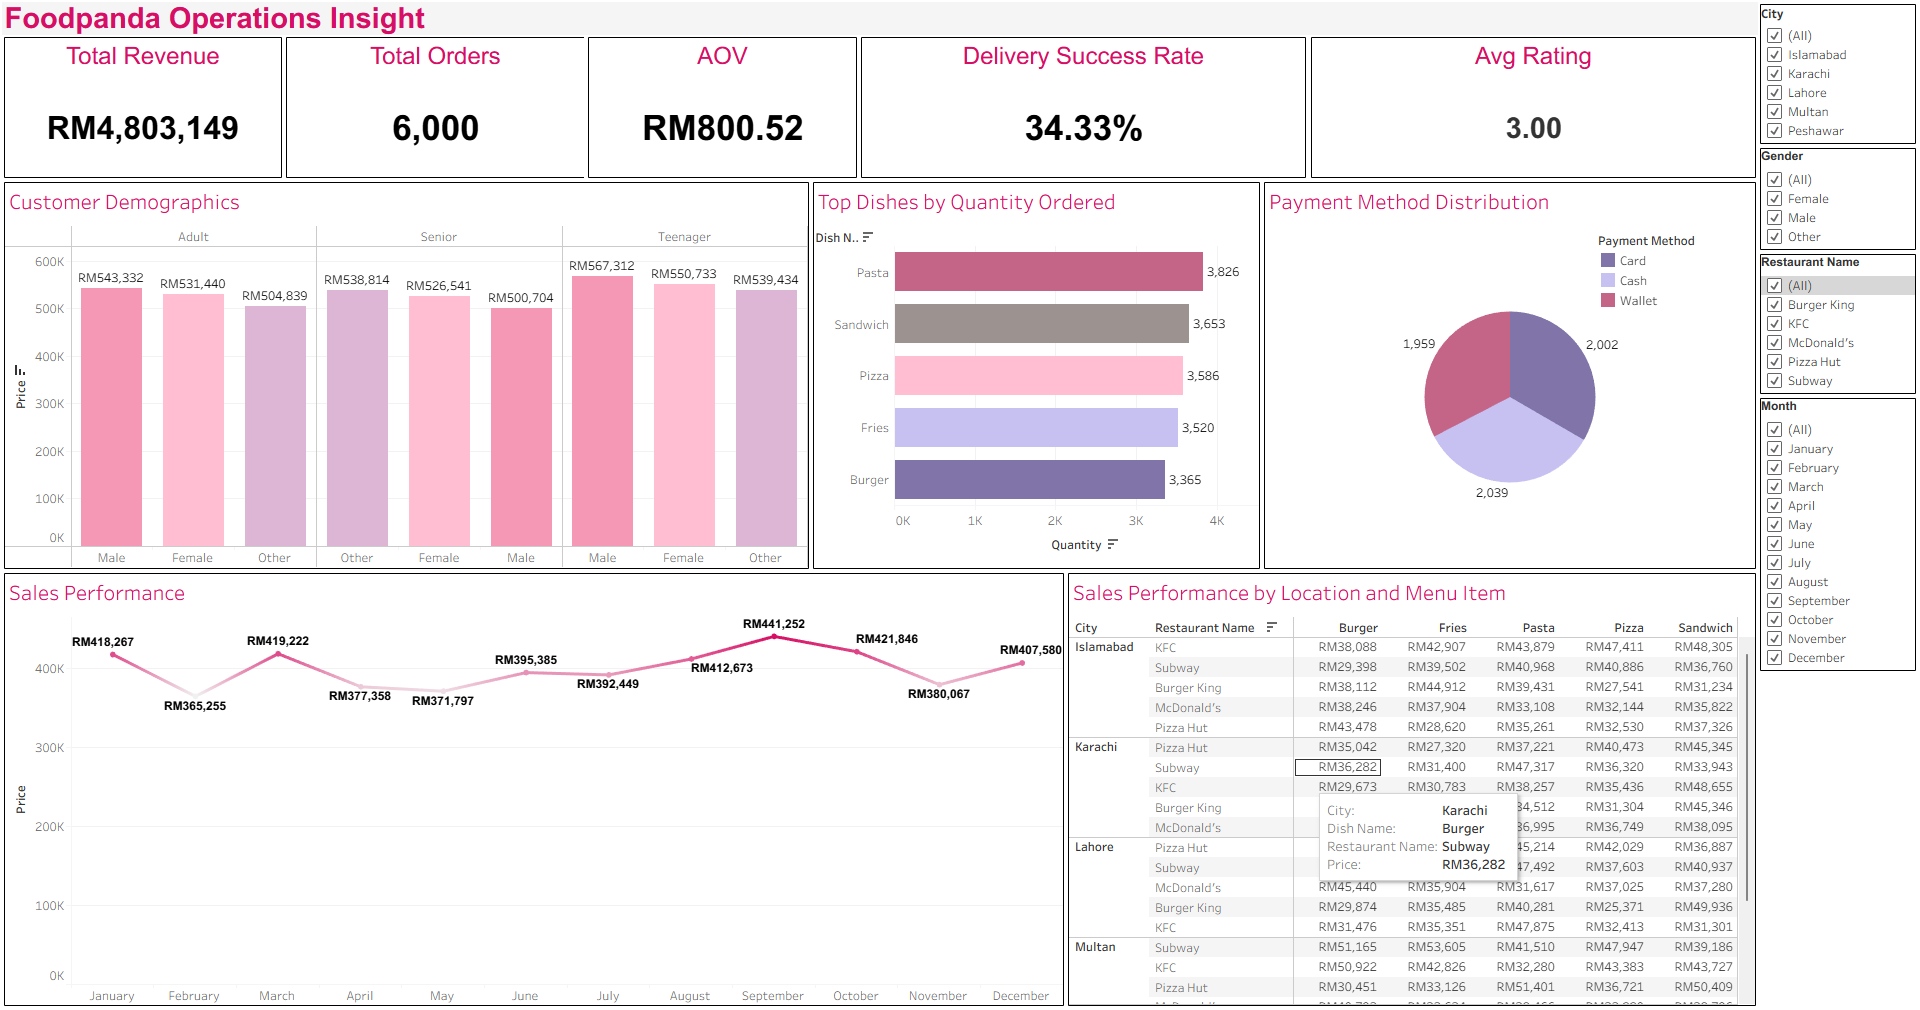

The dashboard page shown, as its layout file describes it:
{"tool":"tableau","page":{"name":"Foodpanda Operations Insight","canvas":[1000,1000],"units":"permille","ordinal":0},"visuals":[{"type":"title","box":[1.2,2.3,904,38.6]},{"type":"filter","title":"Sales Performance by Location and Menu Item","param":"[federated.0zb0jqk1oax34d1cyd6ea139ryls].[none:city:nk]","box":[905.2,2.3,93.6,168.2]},{"type":"worksheet","title":"Total Revenue","mark":"Text","box":[1.2,40.9,145.1,137.8]},{"type":"worksheet","title":"Total Orders","mark":"Automatic","box":[146.2,40.9,155.8,137.8]},{"type":"worksheet","title":"AOV","mark":"Automatic","box":[302.1,40.9,140.5,137.8]},{"type":"worksheet","title":"Delivery Success Rate","mark":"Automatic","box":[442.6,40.9,231.3,137.8]},{"type":"worksheet","title":"Avg Rating","mark":"Automatic","box":[673.9,40.9,231.3,137.8]},{"type":"filter","title":"Customer Demographics","param":"[federated.0zb0jqk1oax34d1cyd6ea139ryls].[none:gender:nk]","box":[905.2,170.6,93.6,123.8]},{"type":"worksheet","title":"Customer Demographics","mark":"Automatic","rows":["price"],"cols":["age","gender"],"box":[1.2,178.7,416.6,386.7]},{"type":"worksheet","title":"Top Dishes by Quantity Ordered","mark":"Automatic","rows":["dish_name"],"cols":["quantity"],"box":[417.8,178.7,231.9,386.7]},{"type":"worksheet","title":"Payment Method Distribution","mark":"Pie","box":[649.7,178.7,255.5,386.7]},{"type":"legend","title":"Payment Method Distribution","param":"[federated.0zb0jqk1oax34d1cyd6ea139ryls].[none:payment_method:nk]","box":[832.5,230.1,65.7,95.8]},{"type":"filter","title":"Sales Performance by Location and Menu Item","param":"[federated.0zb0jqk1oax34d1cyd6ea139ryls].[none:restaurant_name:nk]","box":[905.2,294.4,93.6,168.2]},{"type":"filter","title":"Sales Performance","param":"[federated.0zb0jqk1oax34d1cyd6ea139ryls].[mn:order_date:ok]","box":[905.2,462.6,93.6,323.6]},{"type":"worksheet","title":"Sales Performance","mark":"Line","rows":["price"],"cols":["order_date"],"box":[1.2,565.4,547.7,432.3]},{"type":"worksheet","title":"Sales Performance by Location and Menu Item","mark":"Automatic","rows":["city","restaurant_name"],"cols":["dish_name"],"box":[548.8,565.4,356.4,432.3]}]}

Visuals, with their boxes on the dashboard's canvas, which has no fixed pixel size, in thousandths of its width and height (x1, y1, x2, y2). These are canvas units, not pixel positions in the 1920x1010 screenshot, which may show the page scaled, cropped or inside an application window:
title: BBox(1, 2, 905, 41)
"Sales Performance by Location and Menu Item" filter: BBox(905, 2, 999, 170)
"Total Revenue" worksheet (Text marks): BBox(1, 41, 146, 179)
"Total Orders" worksheet: BBox(146, 41, 302, 179)
"AOV" worksheet: BBox(302, 41, 443, 179)
"Delivery Success Rate" worksheet: BBox(443, 41, 674, 179)
"Avg Rating" worksheet: BBox(674, 41, 905, 179)
"Customer Demographics" filter: BBox(905, 171, 999, 294)
"Customer Demographics" worksheet: BBox(1, 179, 418, 565)
"Top Dishes by Quantity Ordered" worksheet: BBox(418, 179, 650, 565)
"Payment Method Distribution" worksheet (Pie marks): BBox(650, 179, 905, 565)
"Payment Method Distribution" legend: BBox(832, 230, 898, 326)
"Sales Performance by Location and Menu Item" filter: BBox(905, 294, 999, 463)
"Sales Performance" filter: BBox(905, 463, 999, 786)
"Sales Performance" worksheet (Line marks): BBox(1, 565, 549, 998)
"Sales Performance by Location and Menu Item" worksheet: BBox(549, 565, 905, 998)
